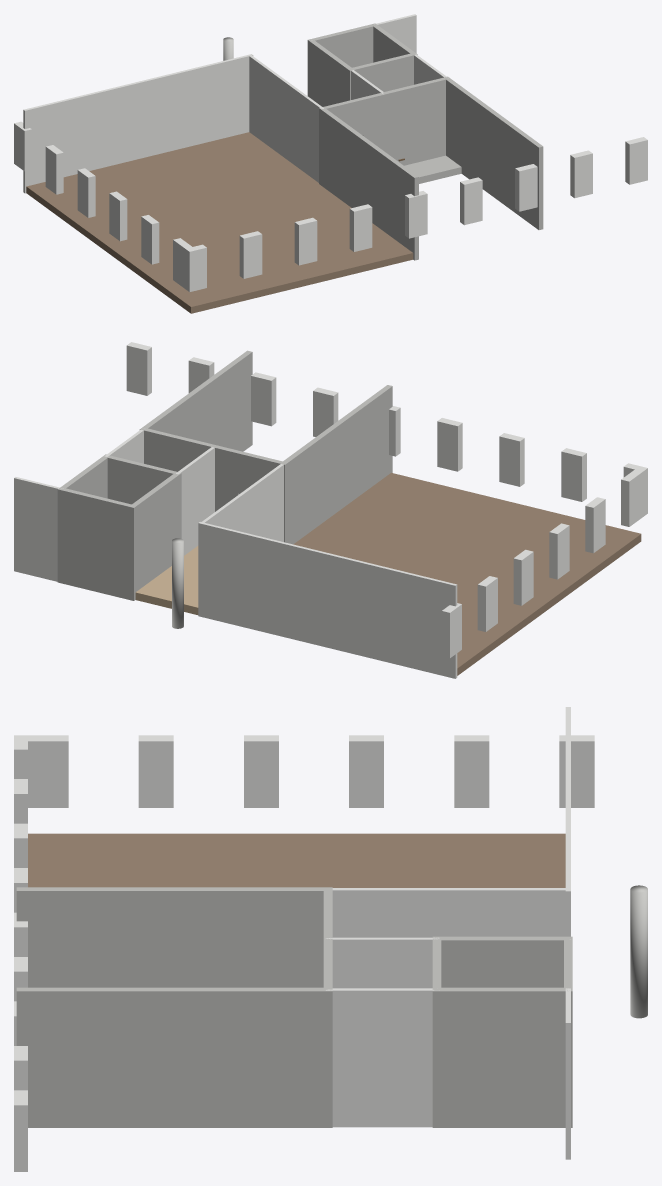
Rendered from SM_Bygg_Helgasetr_P2_V_S.fbx.
3 views of the same model, one above another, from view 1: azimuth 30°, elevation 25°; view 2: azimuth 150°, elevation 25°; view 3: azimuth 270°, elevation 25° (orthographic). The views are drawn at different scales.
Visible parts, largest first — view 1: SM_Bygg_Helgasetr_P2_V_S; view 2: SM_Bygg_Helgasetr_P2_V_S; view 3: SM_Bygg_Helgasetr_P2_V_S.
Part boxes in pixels (x1=…): SM_Bygg_Helgasetr_P2_V_S: x1=14, y1=14, x2=647, y2=313; SM_Bygg_Helgasetr_P2_V_S: x1=14, y1=342, x2=647, y2=678; SM_Bygg_Helgasetr_P2_V_S: x1=14, y1=707, x2=647, y2=1171.
Bounding box in the file's own units: 18.08 × 24.95 × 4.3.
